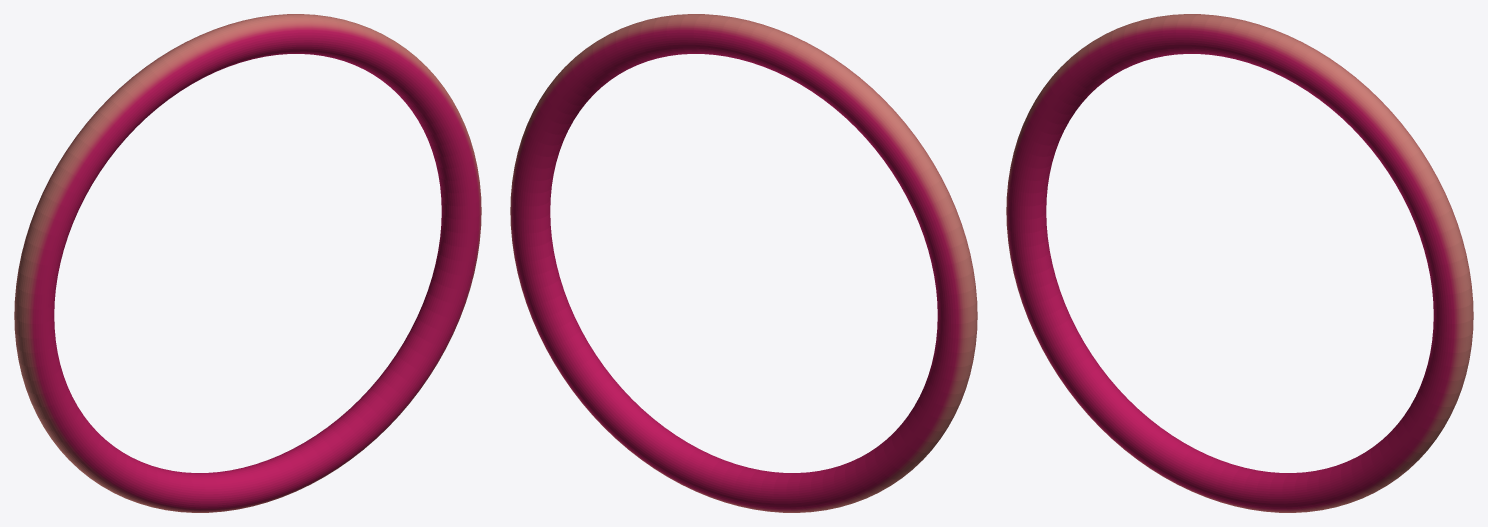
3 renders of one model, left to right at view 1: azimuth 30°, elevation 25°; view 2: azimuth 150°, elevation 25°; view 3: azimuth 330°, elevation 25°, orthographic.
Visible parts, largest first — view 1: world; view 2: world; view 3: world.
Boxes of the visible parts, <box> form: world: <box>14,14,481,512</box>; world: <box>510,14,977,512</box>; world: <box>1006,14,1473,512</box>.
Bounding box in the file's own units: 30.27 × 30.27 × 2.26.
